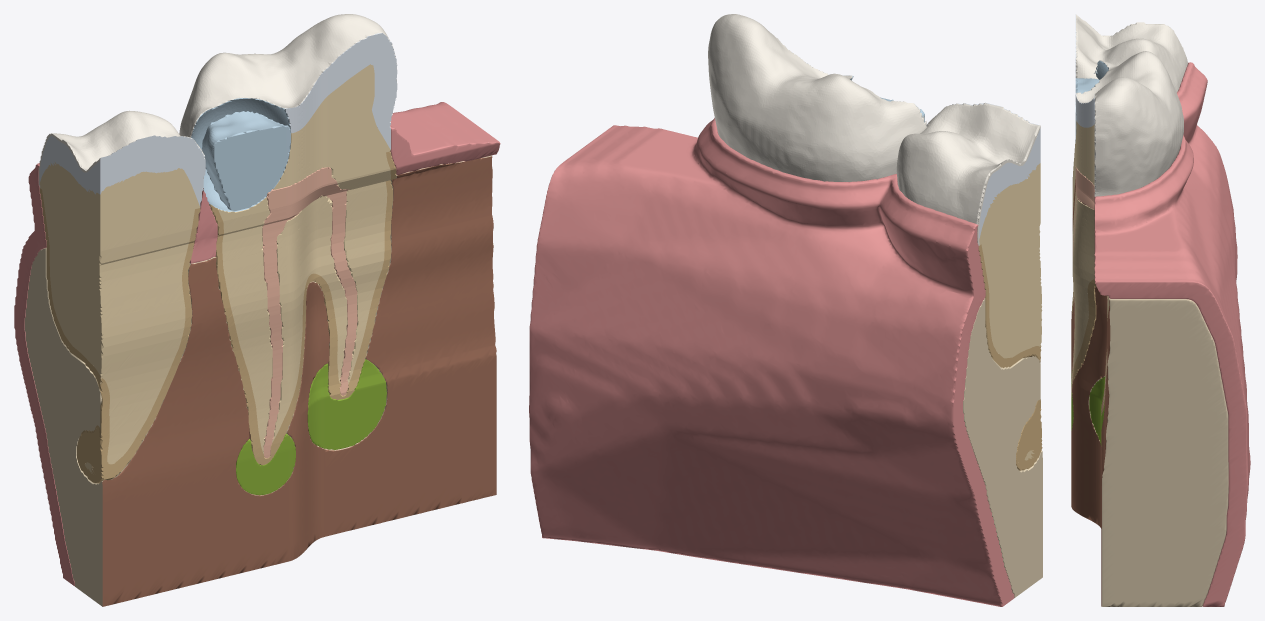
Rendered from rct-after.glb.
3 views of the same model, side by side, from view 1: azimuth 30°, elevation 25°; view 2: azimuth 150°, elevation 25°; view 3: azimuth 270°, elevation 25° (orthographic). The views are drawn at different scales.
Visible parts, largest first — view 1: bone_1, teeth teeth_2, first molar teeth_8, bone, first molar teeth_5, filling, gum, root filling, abscess, first molar teeth_7, teeth teeth_3, first molar teeth_10 (+4 smaller); view 2: gum, first molar teeth_5, bone, teeth teeth_4, teeth teeth_2, teeth teeth_3, teeth teeth_1, teeth teeth; view 3: bone, gum, first molar teeth_5, bone_1, teeth teeth_4, first molar teeth_8, first molar teeth_7, abscess, root filling, first molar teeth_10, filling.
Part boxes in pixels (<box>): bone_1: <box>102,156,496,606</box>; teeth teeth_2: <box>40,162,200,474</box>; first molar teeth_8: <box>218,64,390,453</box>; bone: <box>24,155,493,606</box>; first molar teeth_5: <box>179,14,397,204</box>; filling: <box>191,98,290,211</box>; gum: <box>14,102,499,586</box>; root filling: <box>262,167,357,458</box>; abscess: <box>236,359,386,495</box>; first molar teeth_7: <box>210,151,396,465</box>; teeth teeth_3: <box>39,135,205,206</box>; first molar teeth_10: <box>284,33,397,149</box>; gum: <box>529,118,1014,606</box>; first molar teeth_5: <box>708,14,929,181</box>; bone: <box>963,298,1042,597</box>; teeth teeth_4: <box>896,103,1040,245</box>; teeth teeth_2: <box>979,163,1042,460</box>; teeth teeth_3: <box>950,102,1040,238</box>; teeth teeth_1: <box>980,244,1042,467</box>; teeth teeth: <box>978,245,1042,470</box>; bone: <box>1088,298,1228,606</box>; gum: <box>1094,62,1250,606</box>; first molar teeth_5: <box>1076,51,1183,196</box>; bone_1: <box>1071,179,1110,606</box>; teeth teeth_4: <box>1075,14,1187,92</box>; first molar teeth_8: <box>1071,121,1108,404</box>; first molar teeth_7: <box>1071,188,1109,415</box>; abscess: <box>1071,370,1105,445</box>; root filling: <box>1071,166,1107,411</box>; first molar teeth_10: <box>1075,93,1095,196</box>; filling: <box>1075,60,1108,142</box>.
Bounding box in the file's own units: 23.45 × 27.65 × 9.67.
